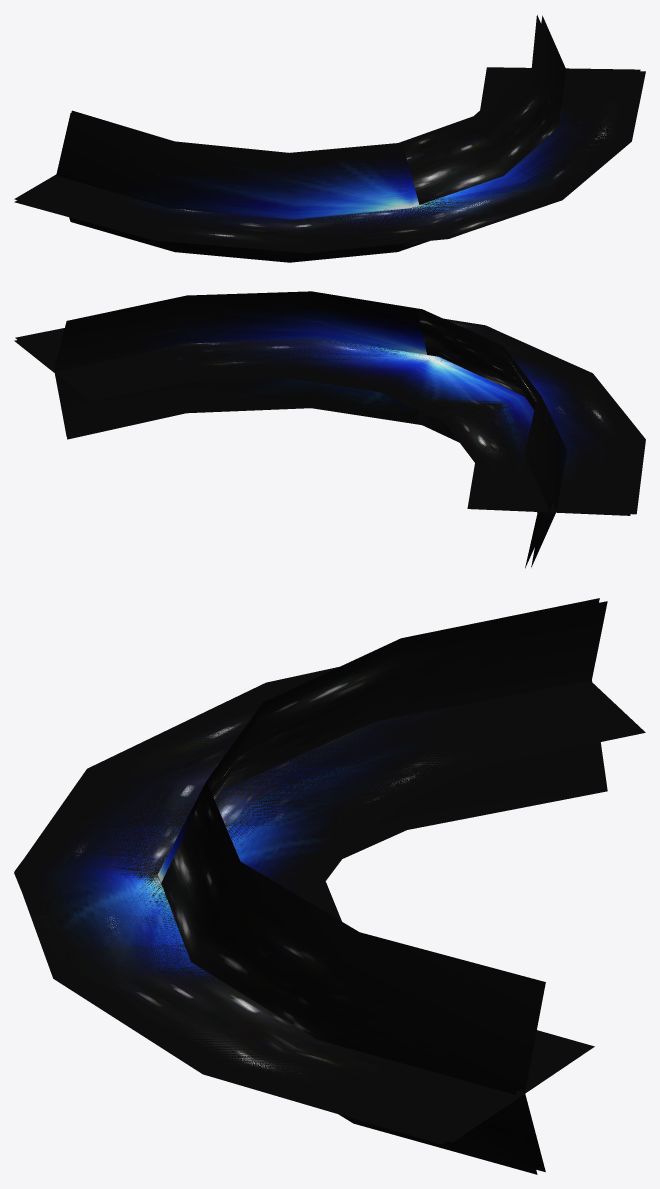
File: Particle System (2) #0415124.fbx
3 views of the same model, one above another, from view 1: azimuth 30°, elevation 25°; view 2: azimuth 150°, elevation 25°; view 3: azimuth 270°, elevation 25° (orthographic). The views are drawn at different scales.
Visible parts, largest first — view 1: Sphere002 Instance (1), Sphere002 Instance; view 2: Sphere002 Instance (1), Sphere002 Instance; view 3: Sphere002 Instance, Sphere002 Instance (1).
Part boxes in pixels (x1,y1,x2,y2): Sphere002 Instance (1): (14, 15, 640, 262); Sphere002 Instance: (14, 15, 645, 252); Sphere002 Instance (1): (14, 292, 645, 567); Sphere002 Instance: (15, 291, 642, 568); Sphere002 Instance: (14, 601, 645, 1174); Sphere002 Instance (1): (14, 598, 638, 1172).
Size of the model in its own units: 14.1 by 2.42 by 7.27.
Materials: 2 (2 with a texture image).
